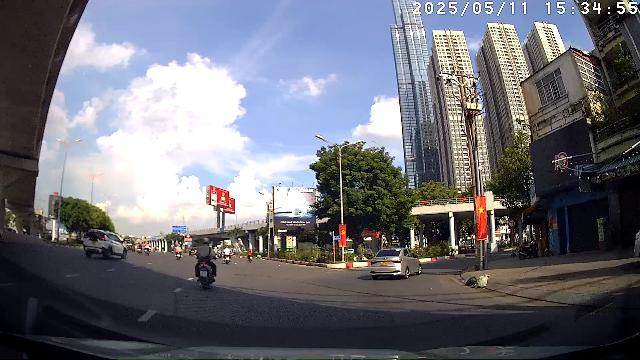123a-cam-re-trai: (509, 219, 516, 228)
